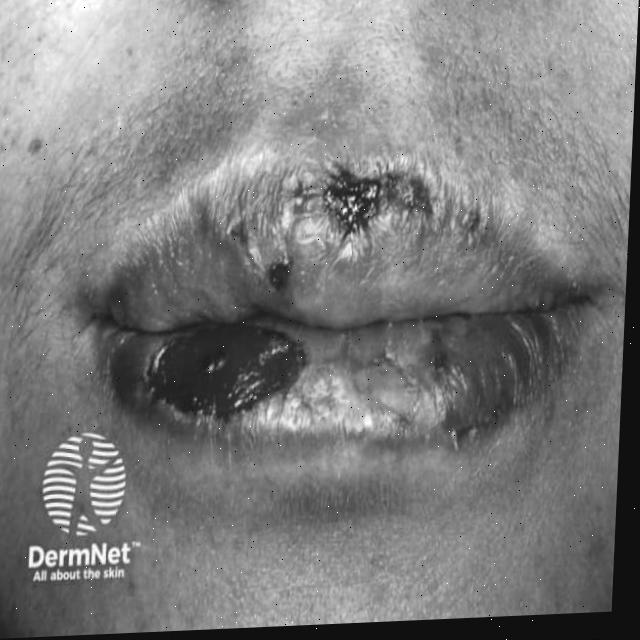lupus-detected: (19, 87, 635, 499)
